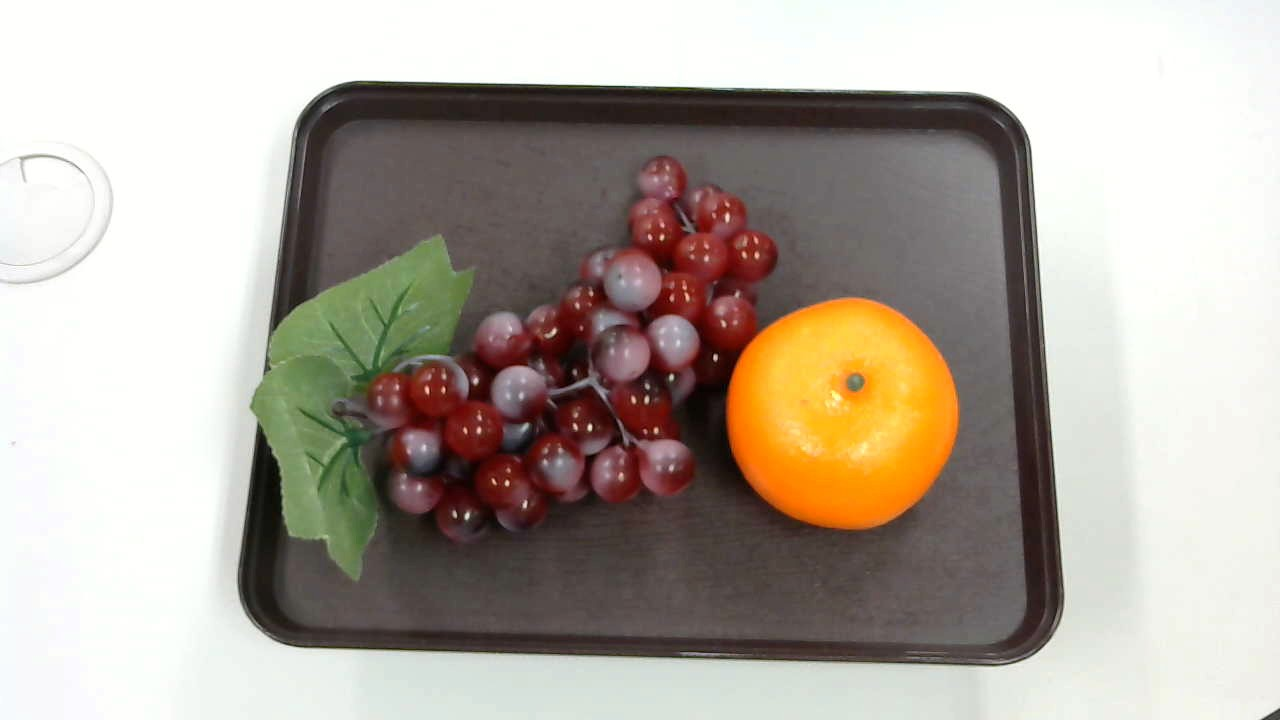grape: (249, 156, 783, 578)
orange: (727, 296, 962, 539)
